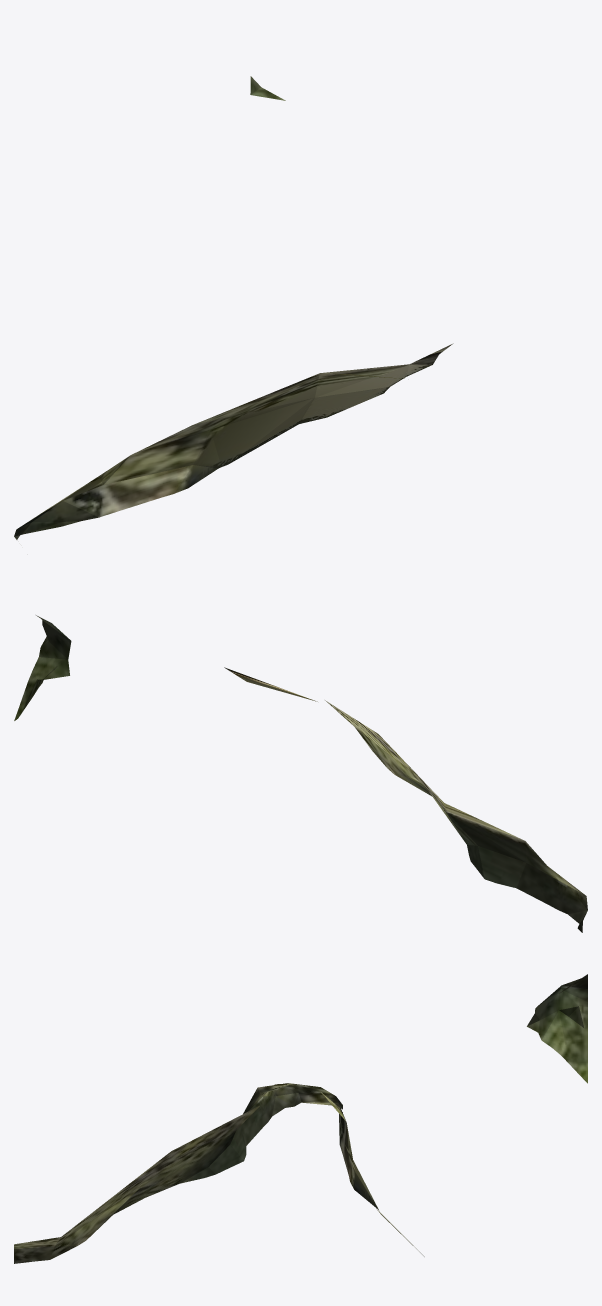
3 views of the same model, one above another, from view 1: azimuth 30°, elevation 25°; view 2: azimuth 150°, elevation 25°; view 3: azimuth 270°, elevation 25° (orthographic). The views are drawn at different scales.
Size of the model in its own units: 4.6 by 3.55 by 5.9.
Materials: 2 (2 with a texture image).
